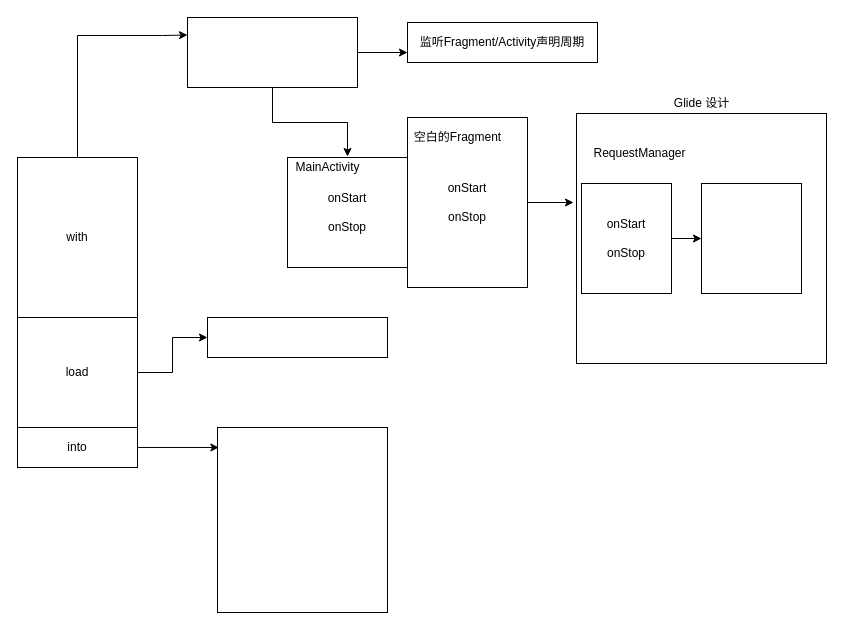
The diagram is 844 pixels wide and 630 high, and some of its shapes have lost their labels. Each missing label, with the centre of its shape:
"GlideTarget ImageViewTarget 。。。" belongs at point 751,238.
"构建RequestBuilder对象" belongs at point 297,337.
"空白的Fragment管理 声明周期机制" belongs at point 272,52.
"运行队列，等待队列 活动缓存 内存缓存 网络模型" belongs at point 302,519.
